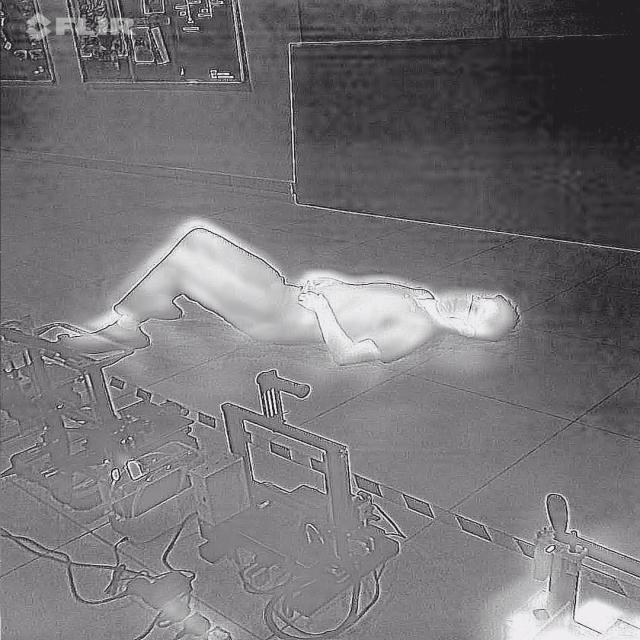Victim: (44, 215, 540, 381)
